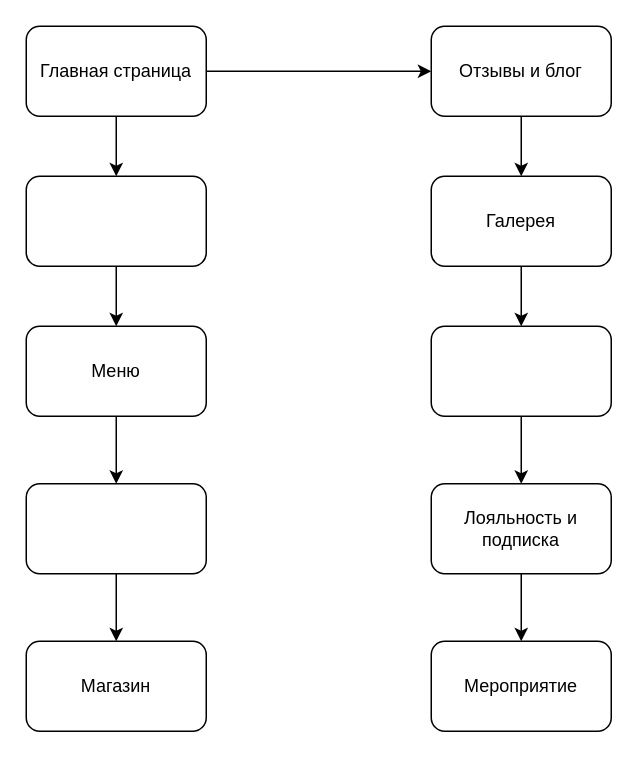
This 638x758 diagram has some shape labels left out. Here are the shapes that lost their labels. From the top down, the centre of each, then its label:
At point (115, 220): "О нас".
At point (520, 370): "Контакты и Локация".
At point (115, 528): "Бронирование".
